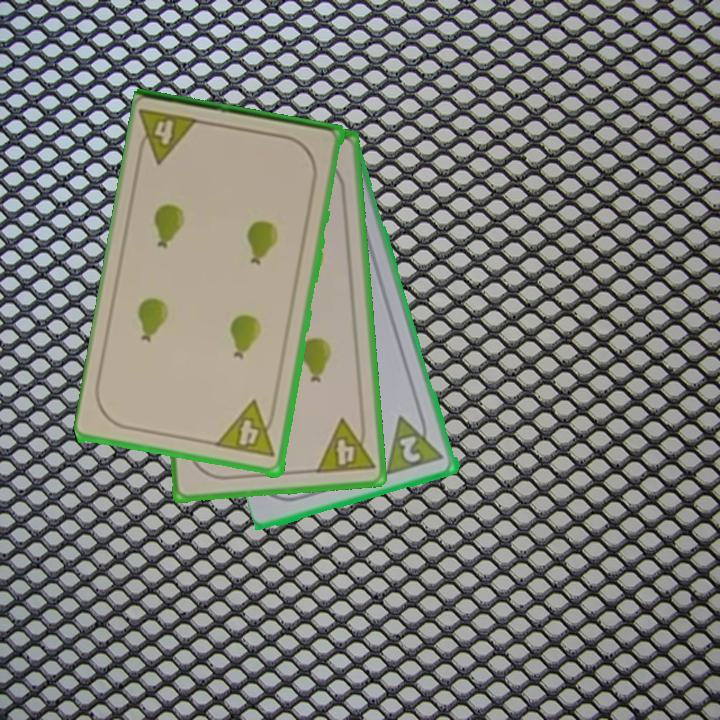2p: (383, 407, 447, 478)
4p: (133, 105, 204, 168), (213, 399, 280, 461), (312, 414, 377, 477)
